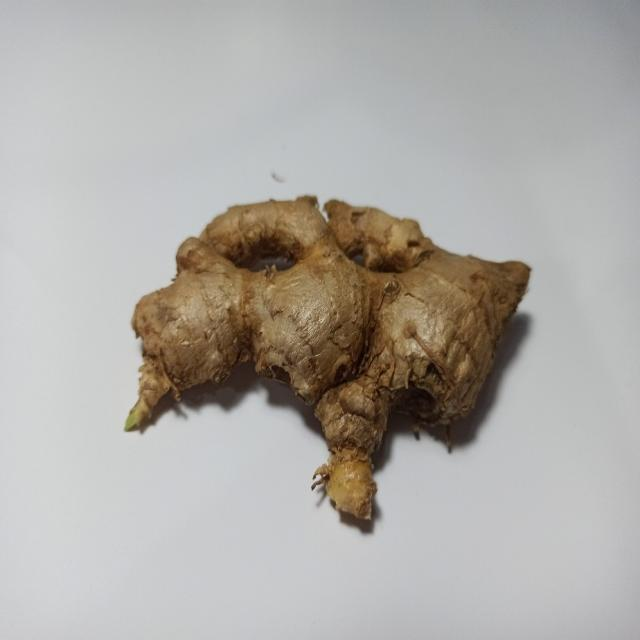ginger: (131, 197, 534, 525)
